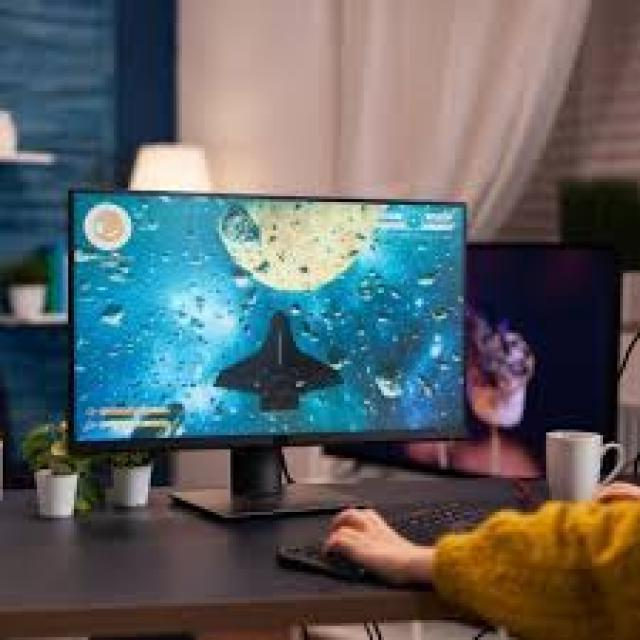monitor: (68, 183, 469, 495)
